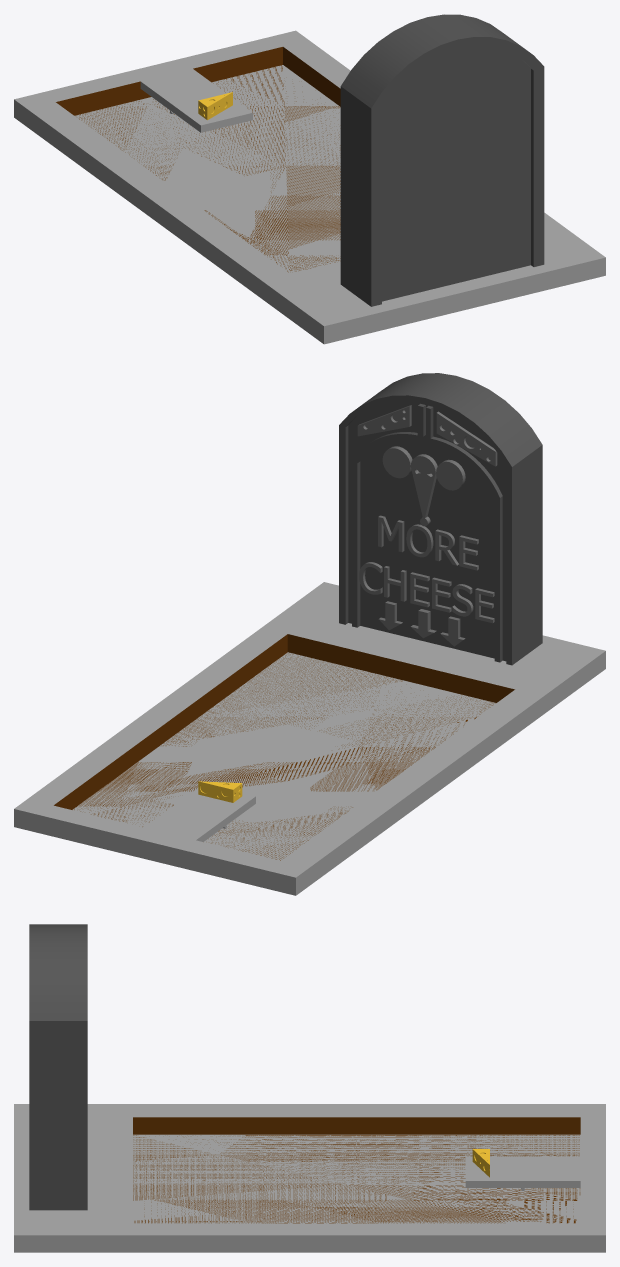
Rendered from grave.dae.
3 renders of one model, top to bottom at view 1: azimuth 30°, elevation 25°; view 2: azimuth 150°, elevation 25°; view 3: azimuth 270°, elevation 25°, orthographic. The views are drawn at different scales.
Visible parts, largest first — view 1: Component_25 (×5); view 2: Component_25 (×10); view 3: Component_25 (×5).
Boxes of the visible parts, x1,y1,x2,y2 form: Component_25 (×5): [14, 14, 605, 344]; Component_25 (×10): [14, 373, 605, 895]; Component_25 (×5): [14, 924, 605, 1252].
Bounding box in the file's own units: 141 × 268 × 126.
